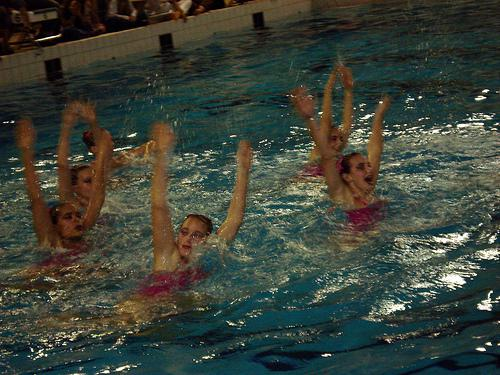swimmer: (140, 121, 260, 282), (306, 90, 399, 238), (27, 117, 117, 253), (299, 69, 360, 166), (58, 102, 106, 204), (87, 114, 133, 172)
